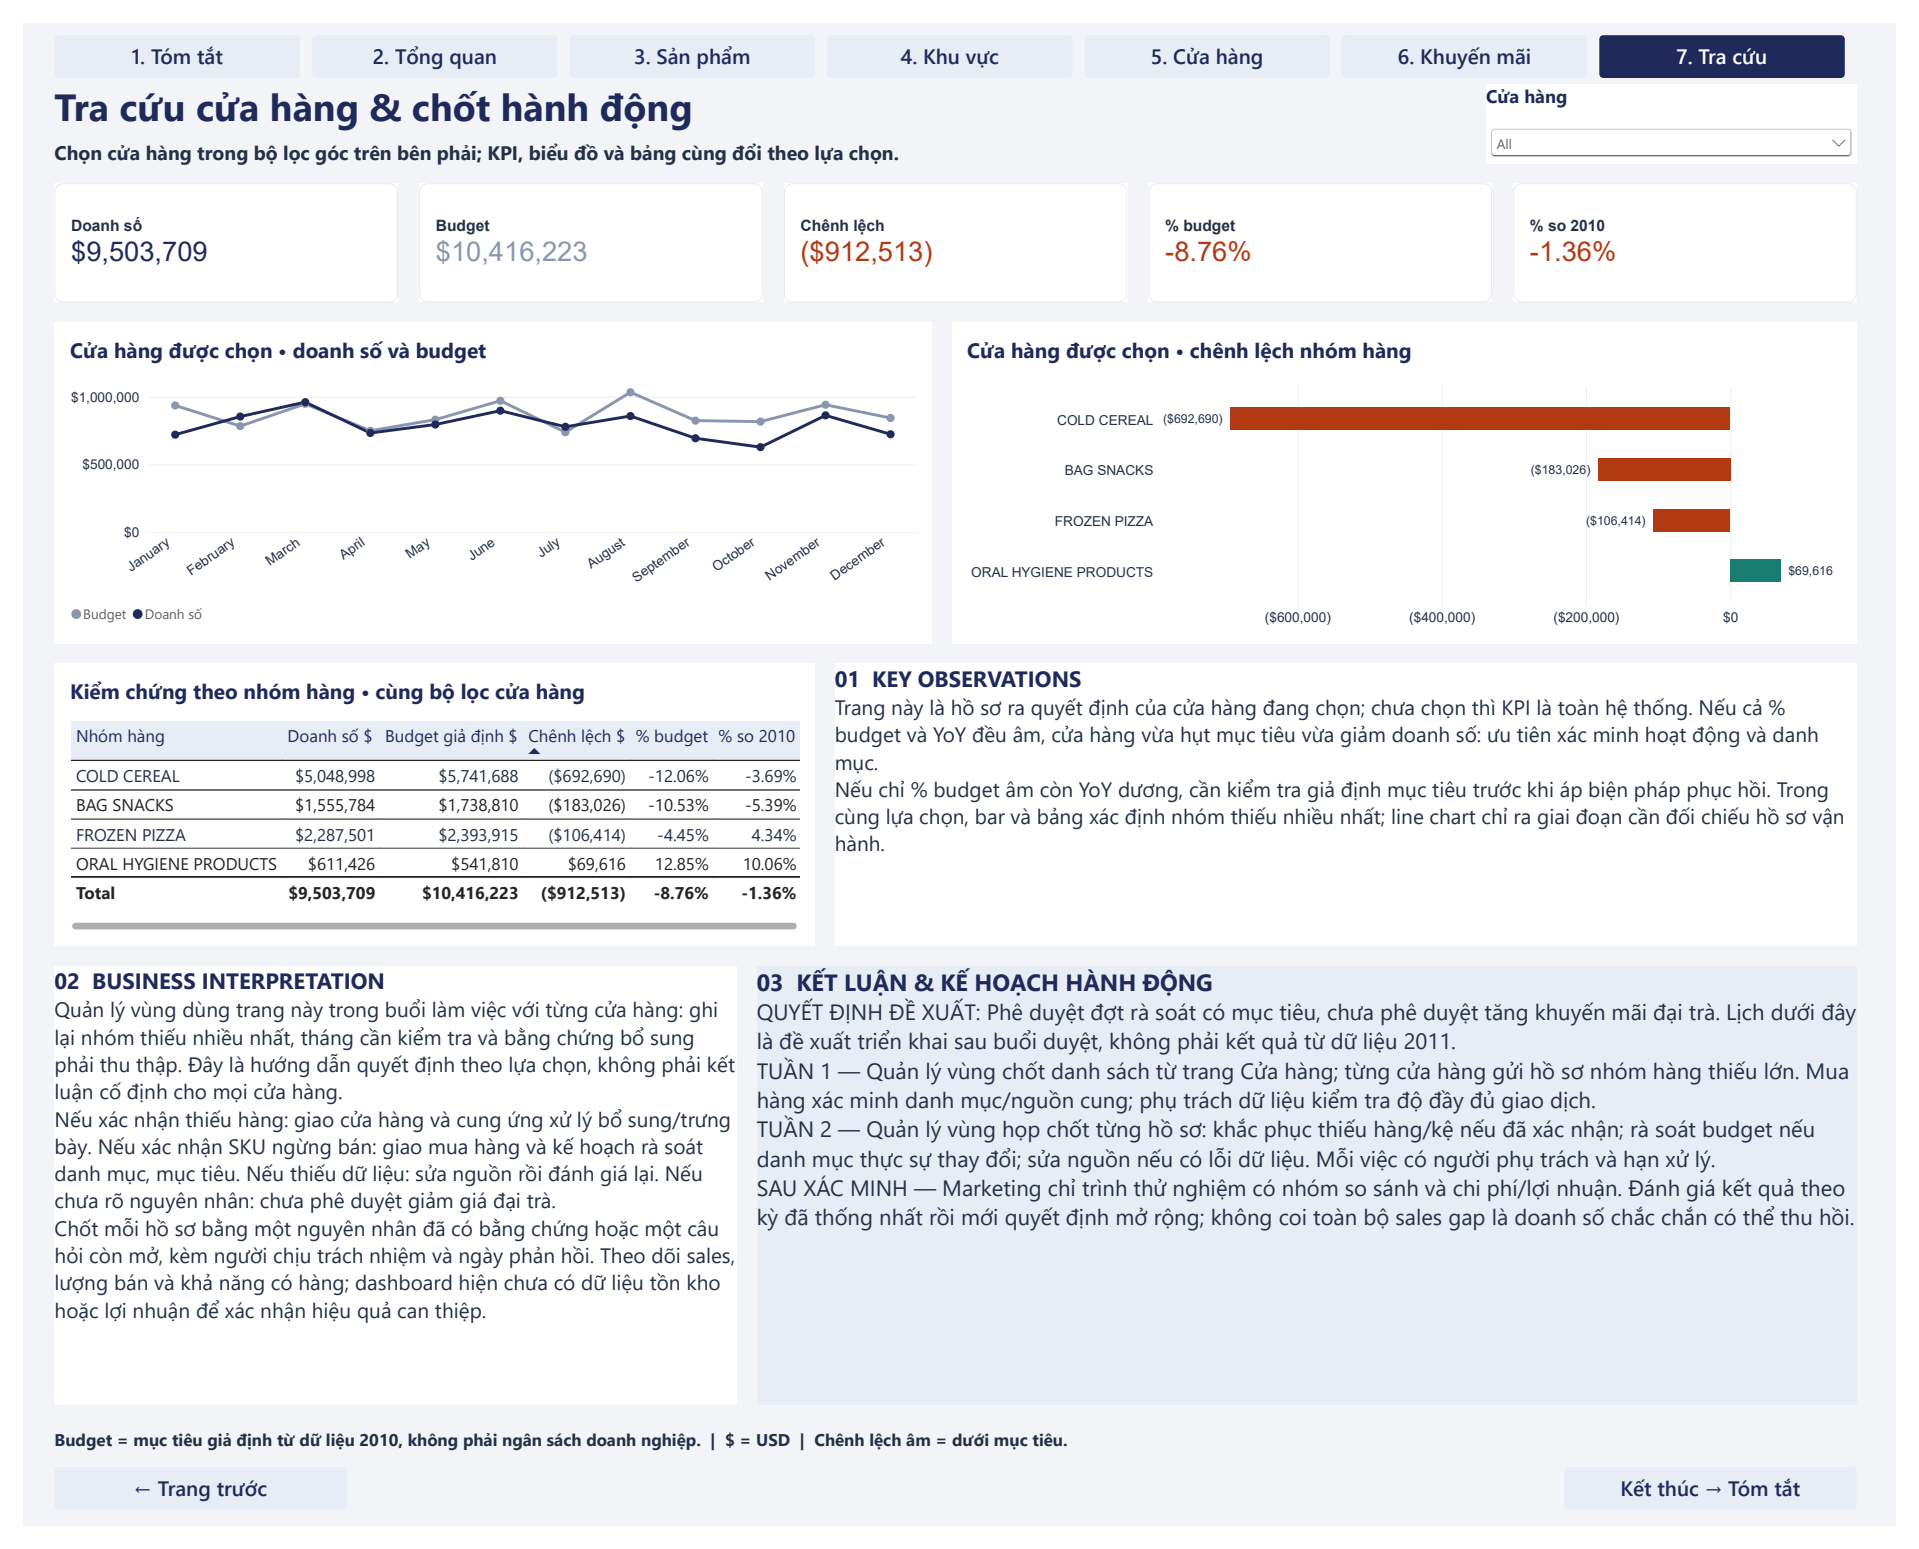

The page's visual inventory and layout, read from the dashboard file:
{"tool":"powerbi","page":{"name":"Phụ lục: Tra cứu","canvas":[1920,1540],"ordinal":6},"visuals":[{"type":"cardVisual","fields":{"Data":["Fact_Transactions.Total Sales"]},"box":[32,164,352,122],"z":0},{"type":"textbox","box":[832,656,1048,290],"z":1000},{"type":"lineChart","title":"Cửa hàng được chọn • doanh số và budget","fields":{"Category":["Dim_Date.Month Name"],"Y":["Budget.Total Budget","Fact_Transactions.Total Sales"]},"box":[32,306,900,330],"z":2000},{"type":"cardVisual","fields":{"Data":["Budget.Total Budget"]},"box":[406,164,352,122],"z":3000},{"type":"slicer","title":"Cửa hàng","fields":{"Values":["Dim_Store.Store_Label"]},"box":[1500,62,380,82],"z":4000},{"type":"textbox","box":[32,118,1436,34],"z":5000},{"type":"clusteredBarChart","title":"Cửa hàng được chọn • chênh lệch nhóm hàng","fields":{"Category":["Dim_Category.CATEGORY"],"Y":["Fact_Transactions.Variance"]},"box":[952,306,928,330],"z":6000},{"type":"textbox","box":[32,1440,1848,30],"z":7000},{"type":"cardVisual","fields":{"Data":["Budget.YoY %"]},"box":[1528,164,352,122],"z":8000},{"type":"textbox","box":[752,966,1128,450],"z":9000},{"type":"tableEx","title":"Kiểm chứng theo nhóm hàng • cùng bộ lọc cửa hàng","fields":{"Values":["Dim_Category.CATEGORY","Fact_Transactions.Total Sales","Budget.Total Budget","Fact_Transactions.Variance","Fact_Transactions.Variance %","Budget.YoY %"]},"box":[32,656,780,290],"z":10000},{"type":"textbox","box":[32,58,1436,60],"z":11000},{"type":"textbox","box":[32,966,700,450],"z":12000},{"type":"cardVisual","fields":{"Data":["Fact_Transactions.Variance"]},"box":[780,164,352,122],"z":13000},{"type":"cardVisual","fields":{"Data":["Fact_Transactions.Variance %"]},"box":[1154,164,352,122],"z":14000},{"type":"actionButton","box":[1580,1480,300,44],"z":15000},{"type":"actionButton","box":[1088,12,252,44],"z":16000},{"type":"actionButton","box":[560,12,252,44],"z":17000},{"type":"actionButton","box":[296,12,252,44],"z":18000},{"type":"actionButton","box":[32,12,252,44],"z":19000},{"type":"actionButton","box":[32,1480,300,44],"z":20000},{"type":"actionButton","box":[1352,12,252,44],"z":21000},{"type":"actionButton","box":[1616,12,252,44],"z":22000},{"type":"actionButton","box":[824,12,252,44],"z":23000}]}

Visuals, with their boxes in screenshot pixels (x1, y1, x2, y2), scaled from the page's 1920x1540 canvas onto the 1919x1549 screenshot:
cardVisual - Fact_Transactions.Total Sales: [left=32, top=165, right=384, bottom=288]
textbox: [left=832, top=660, right=1879, bottom=952]
"Cửa hàng được chọn • doanh số và budget" lineChart: [left=32, top=308, right=932, bottom=640]
cardVisual - Budget.Total Budget: [left=406, top=165, right=758, bottom=288]
"Cửa hàng" slicer: [left=1499, top=62, right=1879, bottom=145]
textbox: [left=32, top=119, right=1467, bottom=153]
"Cửa hàng được chọn • chênh lệch nhóm hàng" clusteredBarChart: [left=952, top=308, right=1879, bottom=640]
textbox: [left=32, top=1448, right=1879, bottom=1479]
cardVisual - Budget.YoY %: [left=1527, top=165, right=1879, bottom=288]
textbox: [left=752, top=972, right=1879, bottom=1424]
"Kiểm chứng theo nhóm hàng • cùng bộ lọc cửa hàng" tableEx: [left=32, top=660, right=812, bottom=952]
textbox: [left=32, top=58, right=1467, bottom=119]
textbox: [left=32, top=972, right=732, bottom=1424]
cardVisual - Fact_Transactions.Variance: [left=780, top=165, right=1131, bottom=288]
cardVisual - Fact_Transactions.Variance %: [left=1153, top=165, right=1505, bottom=288]
actionButton: [left=1579, top=1489, right=1879, bottom=1533]
actionButton: [left=1087, top=12, right=1339, bottom=56]
actionButton: [left=560, top=12, right=812, bottom=56]
actionButton: [left=296, top=12, right=548, bottom=56]
actionButton: [left=32, top=12, right=284, bottom=56]
actionButton: [left=32, top=1489, right=332, bottom=1533]
actionButton: [left=1351, top=12, right=1603, bottom=56]
actionButton: [left=1615, top=12, right=1867, bottom=56]
actionButton: [left=824, top=12, right=1075, bottom=56]
